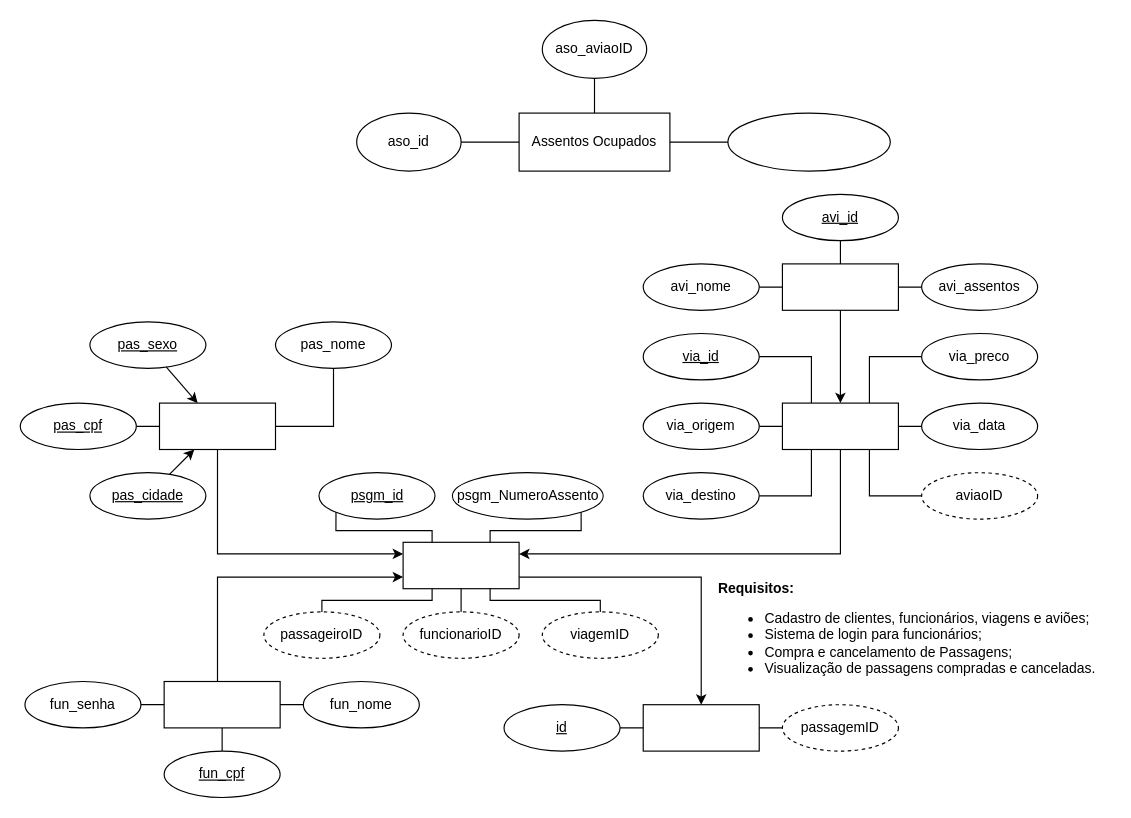
Image size: 1131x818. Some labels were removed from this diagram. Each missing label, with the box of its shape:
aso_numeroAssento: (727, 112, 890, 171)
Avião: (781, 263, 898, 310)
Cancelamento: (642, 704, 759, 751)
Funcionário: (163, 680, 280, 728)
Passageiro: (158, 402, 276, 449)
Passagem: (402, 541, 519, 589)
Viagem: (781, 402, 898, 449)
